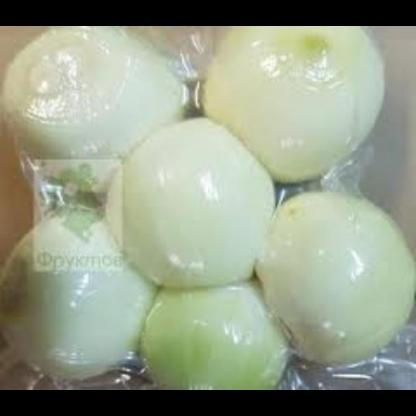onion: (16, 32, 404, 390)
